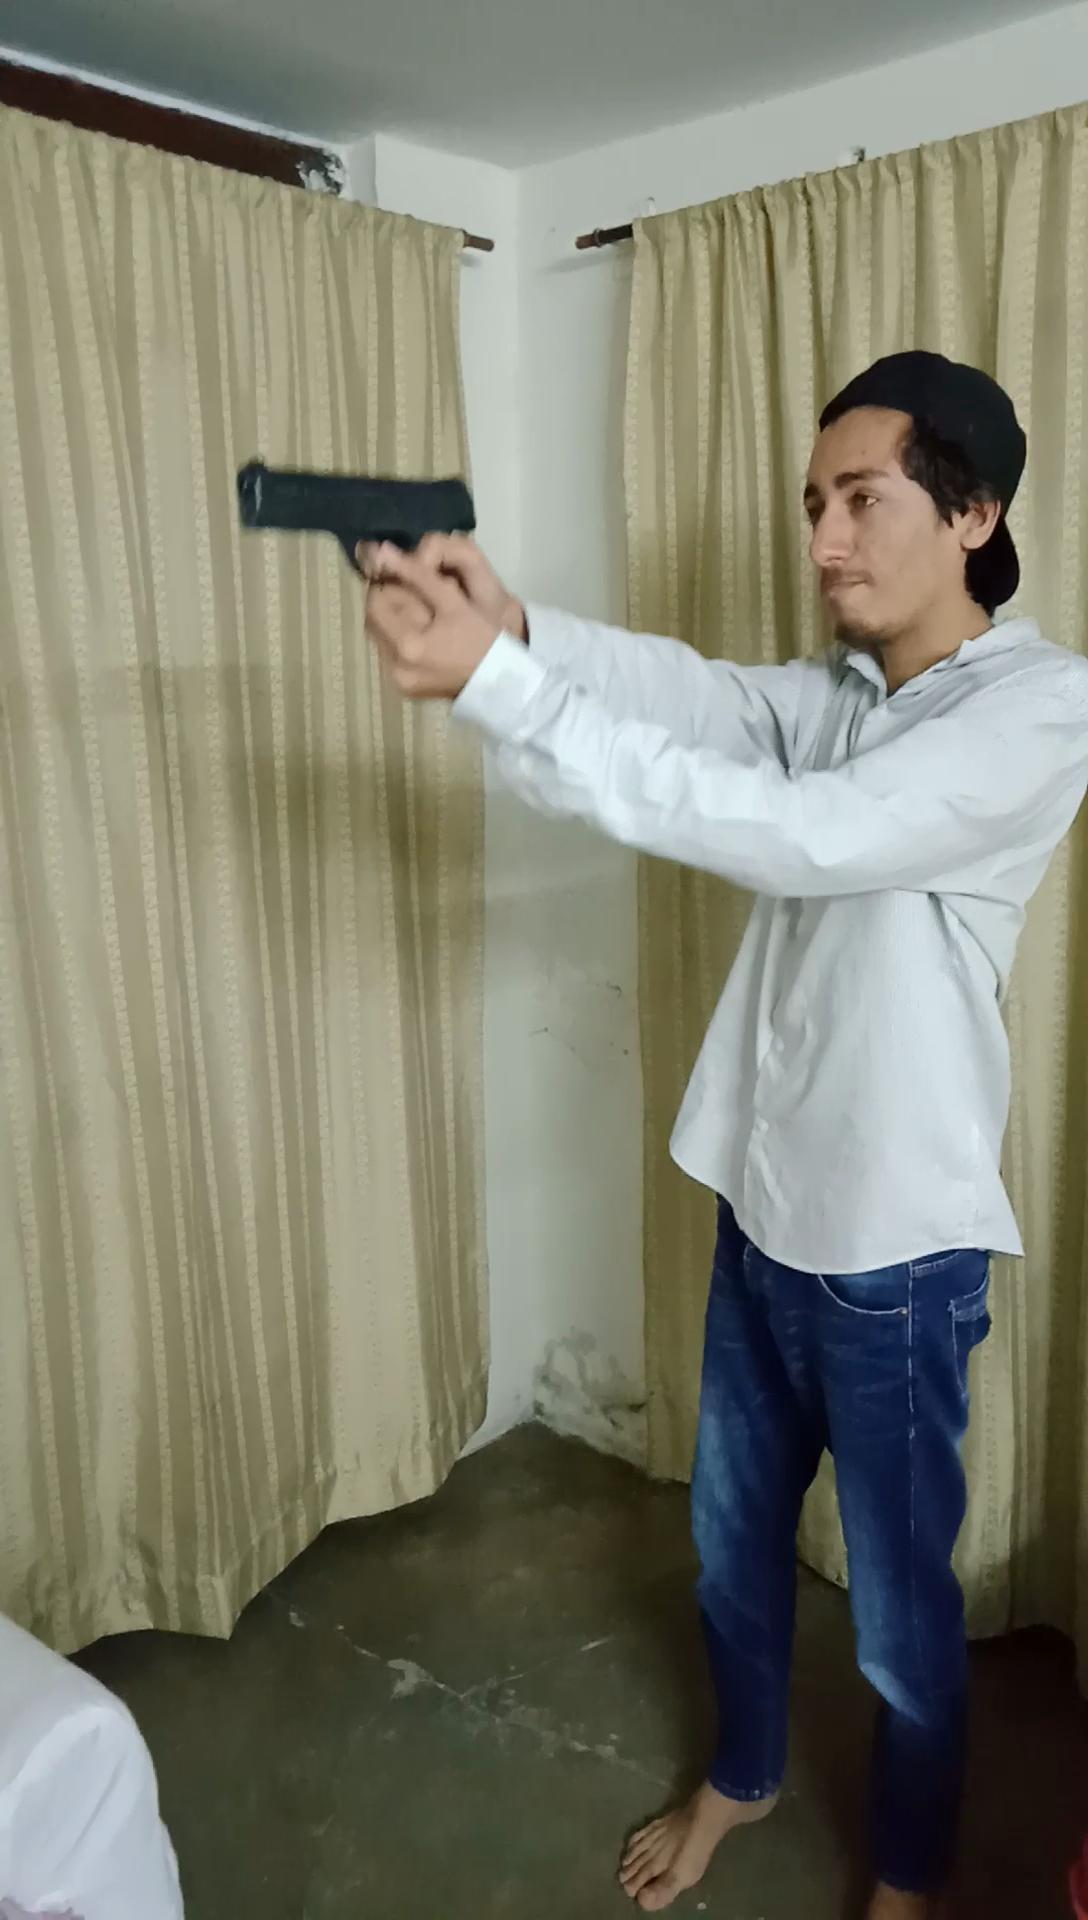criminal: (222, 351, 1088, 1920)
weapon: (220, 446, 501, 592)
